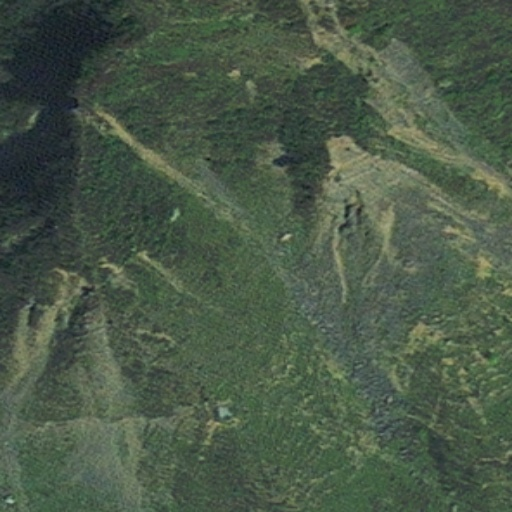landslide: (319, 137, 476, 271)
